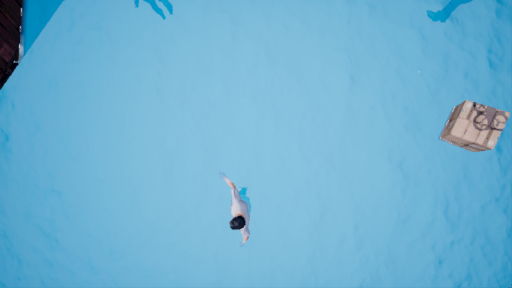person: (213, 166, 263, 243)
